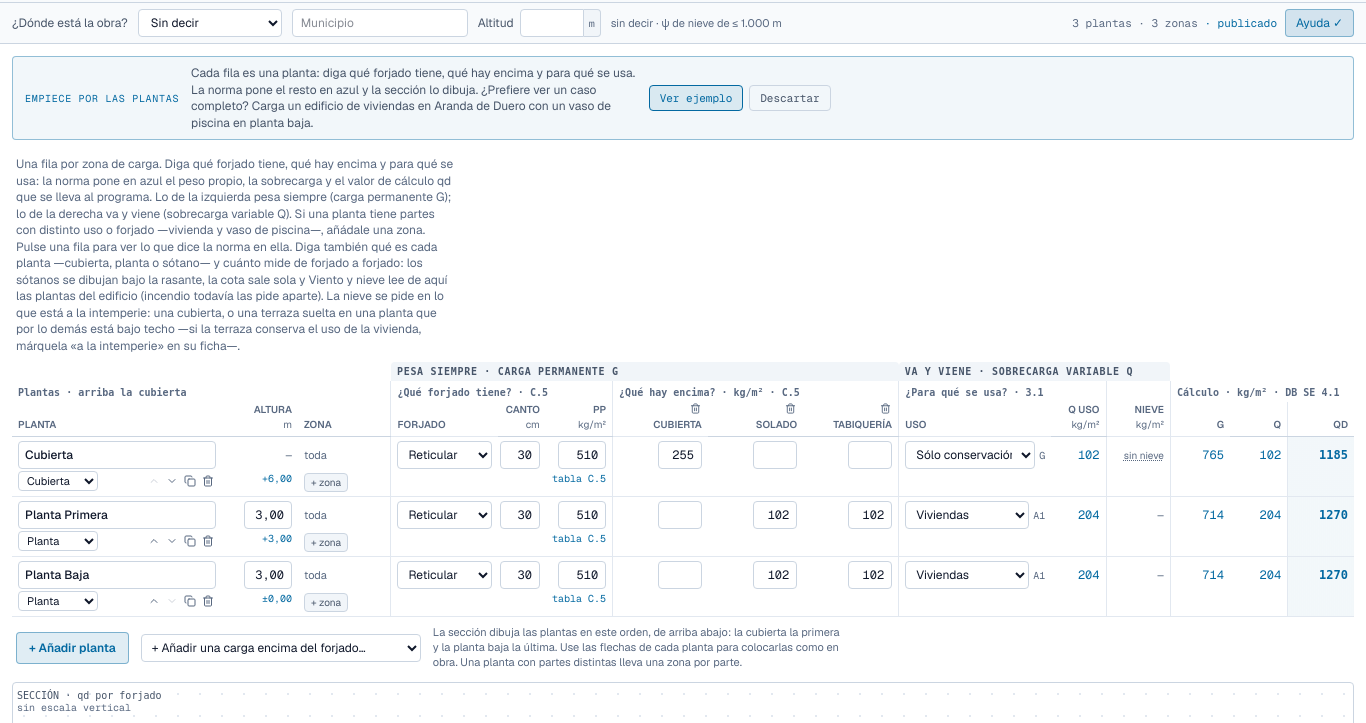
it: Cargas por planta — un solo sistema de unidades › la ficha no plantea la densidad del hormigón como una multiplicación falsa
Select "Losa maciza" in the dropdown named "Tipo de forjado": coordinates (445, 575) [398,561,492,589]
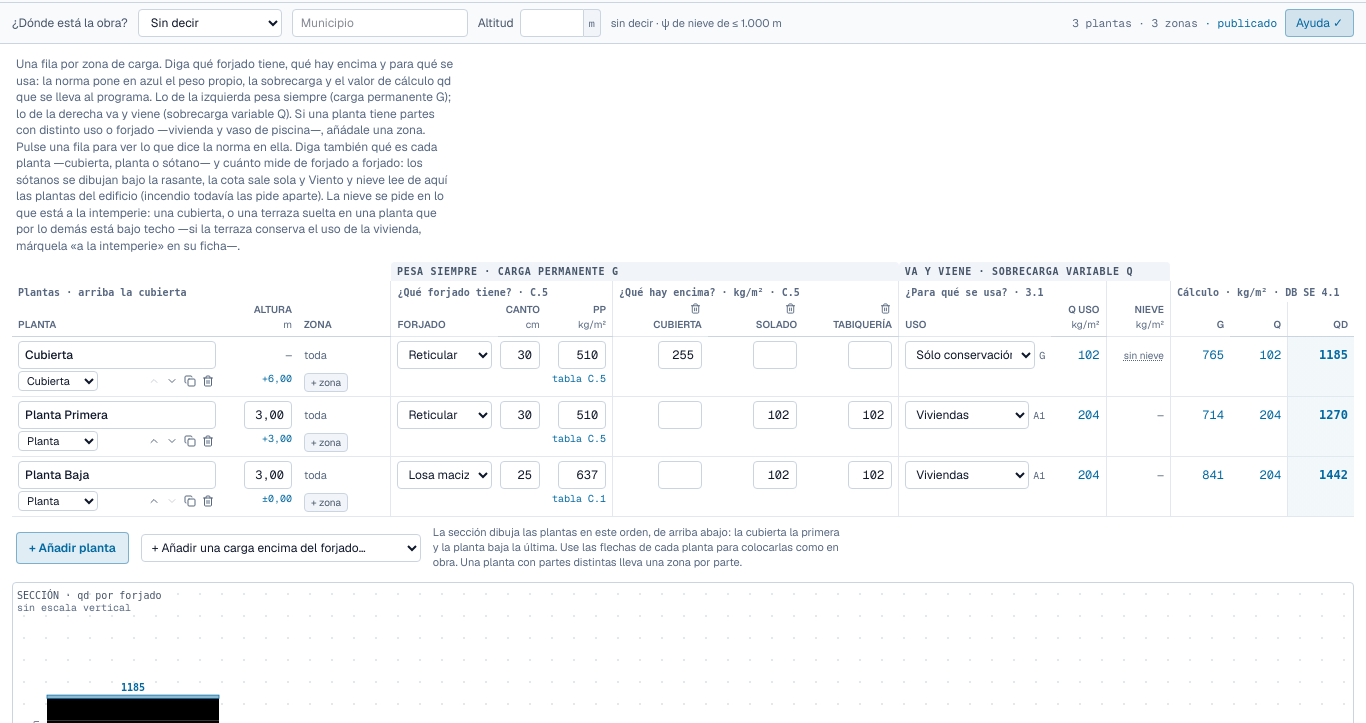
Click the text "toda" in the row of "841": coordinates (315, 475) [304,468,327,482]
(page scrolled)
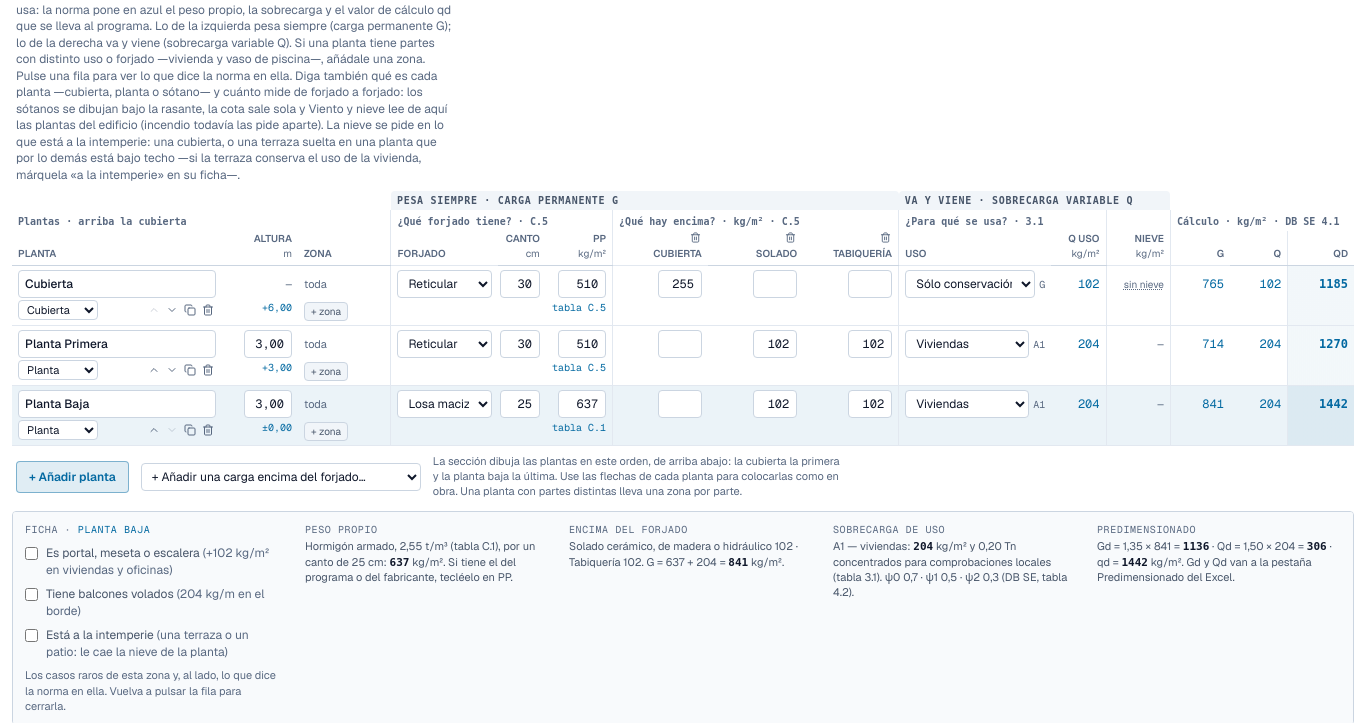
Now the text "Hormigón armado, 2,55 t/m³ (tabla C.1), por un canto de 25 cm" is shown, box [305,539,549,585]
